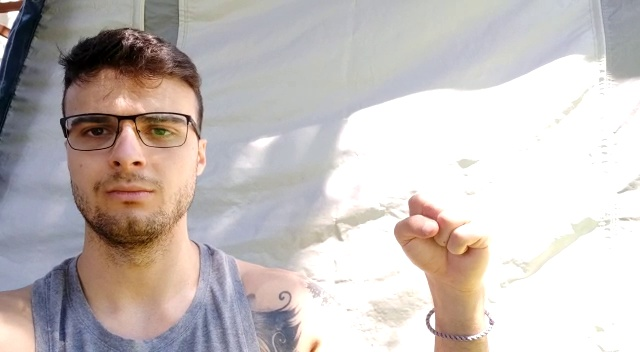Fist: (395, 185, 491, 288)
